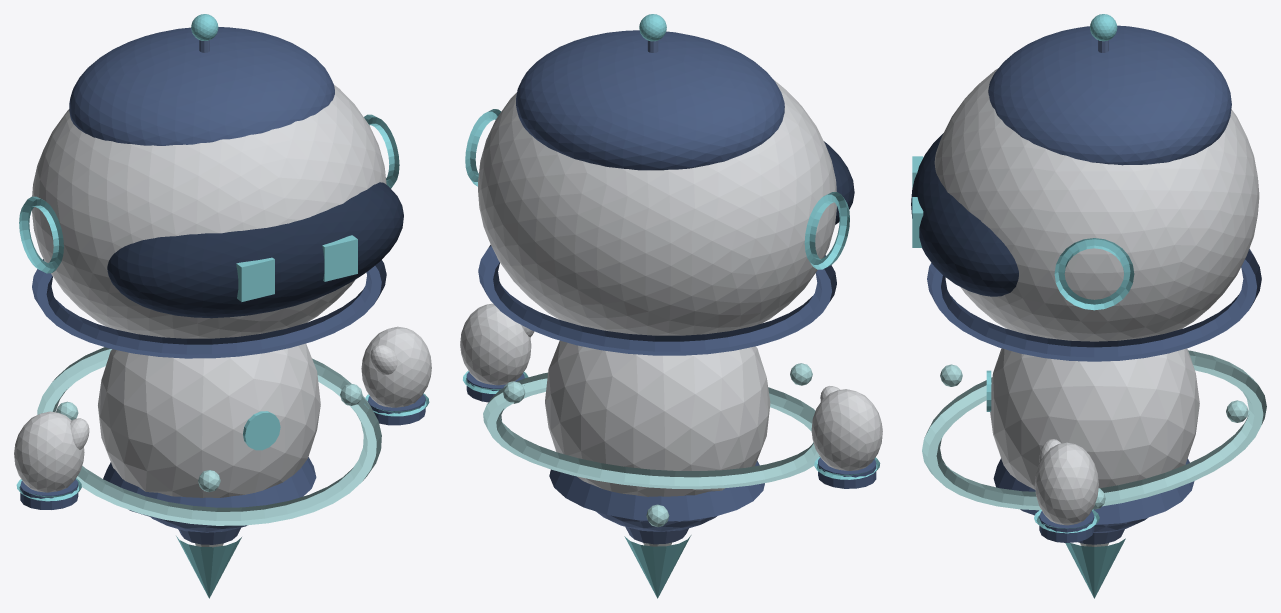
File: drone.glb
3 views of the same model, side by side, from view 1: azimuth 30°, elevation 25°; view 2: azimuth 150°, elevation 25°; view 3: azimuth 270°, elevation 25° (orthographic).
Parts seen in each view (by area): view 1: head, body, cap, visor, halo, hand_l, hand_r, earglow_l, thruster, eye_l, eye_r, chest (+2 smaller); view 2: head, body, cap, halo, hand_l, hand_r, earglow_l, thruster, earglow_r, visor, antenna_tip; view 3: head, cap, body, halo, visor, hand_r, earglow_r, thruster, antenna_tip.
Part boxes in pixels (x1=…): head: x1=32, y1=85, x2=386, y2=358; body: x1=98, y1=343, x2=320, y2=544; cap: x1=69, y1=27, x2=334, y2=145; visor: x1=107, y1=182, x2=403, y2=318; halo: x1=37, y1=347, x2=381, y2=525; hand_l: x1=14, y1=411, x2=89, y2=509; hand_r: x1=361, y1=326, x2=431, y2=425; earglow_l: x1=19, y1=196, x2=63, y2=273; thruster: x1=176, y1=536, x2=241, y2=598; eye_l: x1=236, y1=257, x2=274, y2=301; eye_r: x1=322, y1=235, x2=357, y2=281; chest: x1=243, y1=411, x2=280, y2=450; head: x1=478, y1=79, x2=836, y2=355; body: x1=545, y1=340, x2=770, y2=544; cap: x1=516, y1=30, x2=784, y2=170; halo: x1=483, y1=363, x2=819, y2=526; hand_l: x1=811, y1=386, x2=882, y2=488; hand_r: x1=460, y1=303, x2=534, y2=402; earglow_l: x1=804, y1=192, x2=849, y2=269; thruster: x1=624, y1=535, x2=691, y2=598; earglow_r: x1=465, y1=109, x2=501, y2=186; visor: x1=824, y1=141, x2=854, y2=224; antenna_tip: x1=639, y1=14, x2=666, y2=41; head: x1=927, y1=68, x2=1261, y2=361; cap: x1=988, y1=25, x2=1231, y2=165; body: x1=990, y1=348, x2=1199, y2=544; halo: x1=922, y1=350, x2=1266, y2=510; visor: x1=911, y1=133, x2=1018, y2=296; hand_r: x1=1035, y1=439, x2=1098, y2=542; earglow_r: x1=1054, y1=238, x2=1134, y2=310; thruster: x1=1065, y1=538, x2=1125, y2=598; antenna_tip: x1=1090, y1=14, x2=1117, y2=41.
Size of the model in its own units: 1.04 by 1.4 by 0.7763.
